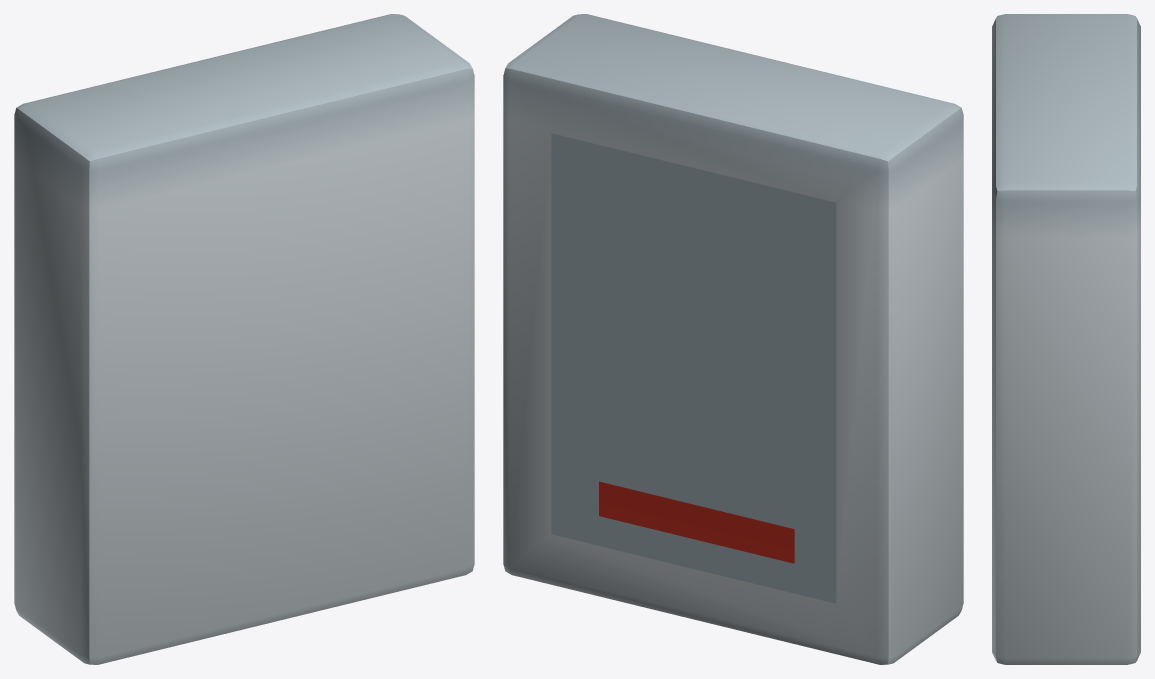
Rendered from M_Bag_v3.fbx.
The picture shows the model from 3 angles, left to right: view 1: azimuth 30°, elevation 25°; view 2: azimuth 150°, elevation 25°; view 3: azimuth 270°, elevation 25°; orthographic projection. The views are drawn at different scales.
Parts seen in each view (by area): view 1: M_Bag_v3; view 2: M_Bag_v3; view 3: M_Bag_v3.
Part boxes in pixels (x1,y1,x2,y2): M_Bag_v3: (14, 14, 474, 664); M_Bag_v3: (503, 14, 963, 664); M_Bag_v3: (992, 14, 1140, 664).
Bounding box in the file's own units: 59.28 × 74.1 × 20.75.
